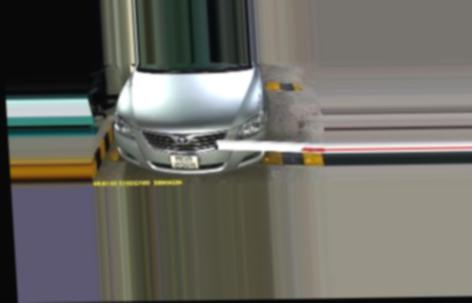License_Plate: (169, 153, 201, 172)
